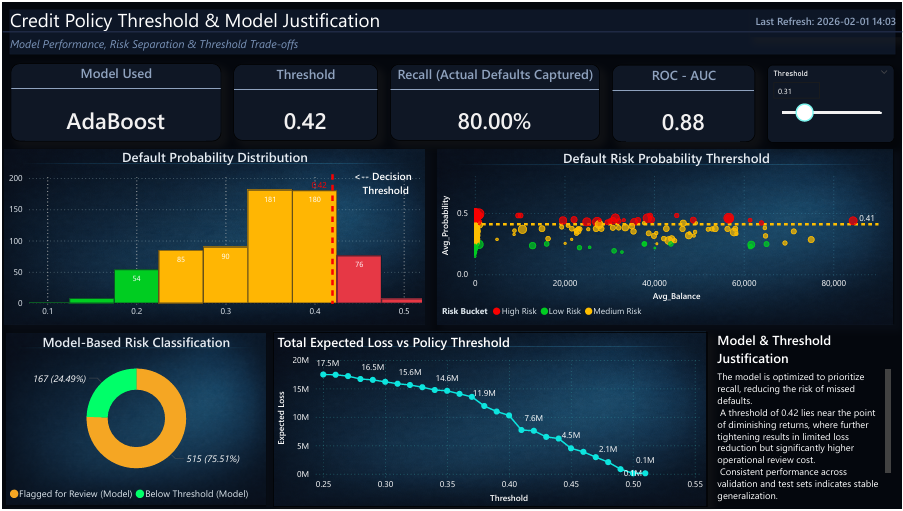

The page's visual inventory and layout, read from the dashboard file:
{"tool":"powerbi","page":{"name":"Credit Policy Threshold & Model Justification","canvas":[1280,720],"ordinal":2},"visuals":[{"type":"shape","box":[0,0,1279.7,83.5],"z":0},{"type":"image","box":[619.4,208.2,648.6,250.1],"z":0,"group":"g4"},{"type":"image","box":[385,468,616,249],"z":0,"group":"g6"},{"type":"image","box":[5,470.5,370,243.9],"z":0,"group":"g5"},{"type":"group","id":"g1","title":"Group 1","box":[1.5,206.1,600,251],"z":500,"group":"g3"},{"type":"textbox","box":[4.6,0,592.2,49.2],"z":1000},{"type":"image","box":[1.5,207.9,598.3,249],"z":1000,"group":"g1"},{"type":"clusteredColumnChart","title":"Default Probability Distribution","fields":{"Y":["Key_Measures.Total Loans"],"Category":["Master_Table.default_probability (bins)"]},"box":[2.3,206.1,598.3,250.8],"z":1500,"group":"g1"},{"type":"shape","box":[0,35.3,1280,11.2],"z":2000},{"type":"card","title":"Total Loans","fields":{"Values":["Key_Measures.Last Refresh"]},"box":[1062.8,7.7,216.9,41.5],"z":3000},{"type":"cardVisual","title":"Model Used","fields":{"Data":["Key_Measures.Model Used"]},"box":[10.9,86.3,300.2,110.6],"z":4000},{"type":"cardVisual","title":"Threshold","fields":{"Data":["Key_Measures.Threshold %"]},"box":[328,86.6,205.9,109.5],"z":5000},{"type":"cardVisual","title":"Recall (Actual Defaults Captured)","fields":{"Data":["Key_Measures.Recall (Risky Loans) %"]},"box":[550.8,86.8,299.1,109.5],"z":6000},{"type":"textbox","box":[447.5,231.5,138.6,53.7],"z":6000,"group":"g3"},{"type":"group","id":"g2","title":"Group 1","box":[5,469,370,248],"z":7000},{"type":"cardVisual","title":"ROC - AUC","fields":{"Data":["Key_Measures.Test ROC_AUC"]},"box":[866.7,88.3,204.3,109.5],"z":8000},{"type":"scatterChart","title":"Default Risk Probability Thrershold","fields":{"Y":["Master_Table.default_probability"],"Size":["Avg(Master_Table.Loan_Amount)"],"X":["Avg(Master_Table.Avg_Balance)"],"Category":["Master_Table.Loan_ID"],"Series":["Master_Table.Risk Bucket"]},"box":[620.7,207.6,649.1,248.5],"z":8000,"group":"g4"},{"type":"group","id":"g3","title":"Group 3","box":[1.5,206.1,599.9,250.7],"z":9000},{"type":"group","id":"g4","title":"Group 3","box":[619.4,207.6,648.8,250.1],"z":10000},{"type":"textbox","title":"Model & Threshold Justification","box":[1012,467,258,247],"z":11000},{"type":"textbox","box":[4.6,41.5,446.1,35.4],"z":12000},{"type":"donutChart","title":"Model-Based Risk Classification","fields":{"Y":["Key_Measures.Flagged for Review (Model)","Key_Measures.Below Threshold (Model)"]},"box":[5,469,370,248],"z":12000,"group":"g5"},{"type":"group","id":"g5","title":"Group 2","box":[5,469,370,248],"z":13001,"group":"g2"},{"type":"lineChart","title":"Total Expected Loss vs Policy Threshold","fields":{"Category":["Threshold.Threshold"],"Y":["Buisness Measures.Expected Loss"]},"box":[385,468,618,249],"z":14000,"group":"g6"},{"type":"slicer","title":"Threshold","fields":{"Values":["Threshold.Threshold"]},"box":[1087.8,87.9,181.4,111.1],"z":15000},{"type":"group","id":"g6","title":"Group 4","box":[385,468,618,249],"z":15001}]}

Visuals, with their boxes in screenshot pixels (x1, y1, x2, y2), scaled from the page's 1280x720 canvas onto the 903x511 screenshot:
shape: pyautogui.locateOnScreen(0, 0, 902, 59)
image: pyautogui.locateOnScreen(437, 148, 895, 325)
image: pyautogui.locateOnScreen(272, 332, 706, 509)
image: pyautogui.locateOnScreen(4, 334, 265, 507)
"Group 1" group: pyautogui.locateOnScreen(1, 146, 424, 324)
textbox: pyautogui.locateOnScreen(3, 0, 421, 35)
image: pyautogui.locateOnScreen(1, 148, 423, 324)
"Default Probability Distribution" clusteredColumnChart: pyautogui.locateOnScreen(2, 146, 424, 324)
shape: pyautogui.locateOnScreen(0, 25, 902, 33)
"Total Loans" card: pyautogui.locateOnScreen(750, 5, 902, 35)
"Model Used" cardVisual: pyautogui.locateOnScreen(8, 61, 219, 140)
"Threshold" cardVisual: pyautogui.locateOnScreen(231, 61, 377, 139)
"Recall (Actual Defaults Captured)" cardVisual: pyautogui.locateOnScreen(389, 62, 600, 139)
textbox: pyautogui.locateOnScreen(316, 164, 413, 202)
"Group 1" group: pyautogui.locateOnScreen(4, 333, 265, 509)
"ROC - AUC" cardVisual: pyautogui.locateOnScreen(611, 63, 756, 140)
"Default Risk Probability Thrershold" scatterChart: pyautogui.locateOnScreen(438, 147, 896, 324)
"Group 3" group: pyautogui.locateOnScreen(1, 146, 424, 324)
"Group 3" group: pyautogui.locateOnScreen(437, 147, 895, 325)
"Model & Threshold Justification" textbox: pyautogui.locateOnScreen(714, 331, 896, 507)
textbox: pyautogui.locateOnScreen(3, 29, 318, 55)
"Model-Based Risk Classification" donutChart: pyautogui.locateOnScreen(4, 333, 265, 509)
"Group 2" group: pyautogui.locateOnScreen(4, 333, 265, 509)
"Total Expected Loss vs Policy Threshold" lineChart: pyautogui.locateOnScreen(272, 332, 708, 509)
"Threshold" slicer: pyautogui.locateOnScreen(767, 62, 895, 141)
"Group 4" group: pyautogui.locateOnScreen(272, 332, 708, 509)
